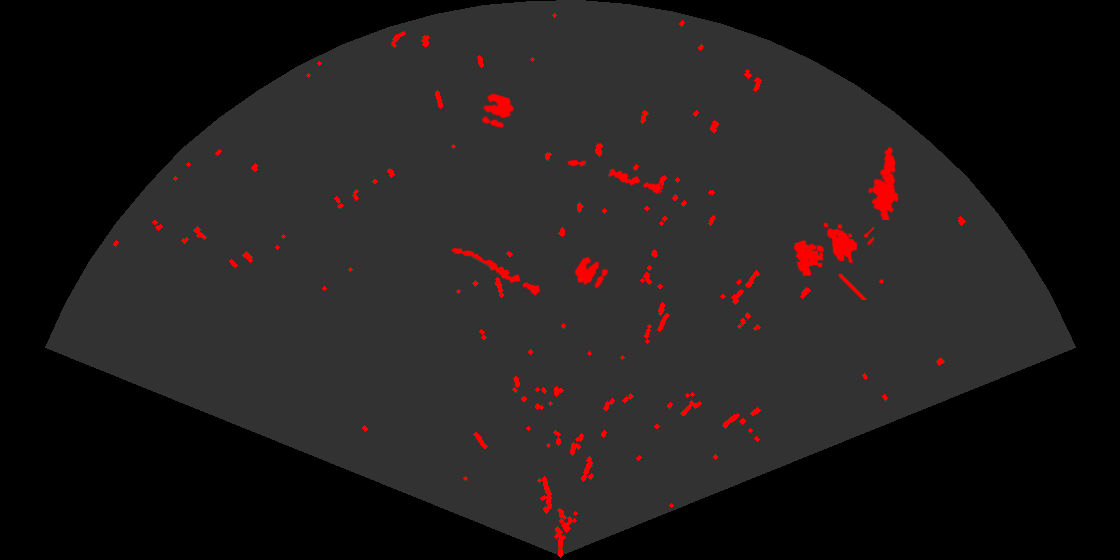ball: (480, 92, 516, 130), (573, 255, 610, 290)
cage: (792, 221, 874, 300)
chain: (450, 246, 542, 297), (566, 158, 663, 195)
frogman: (866, 145, 900, 220)
